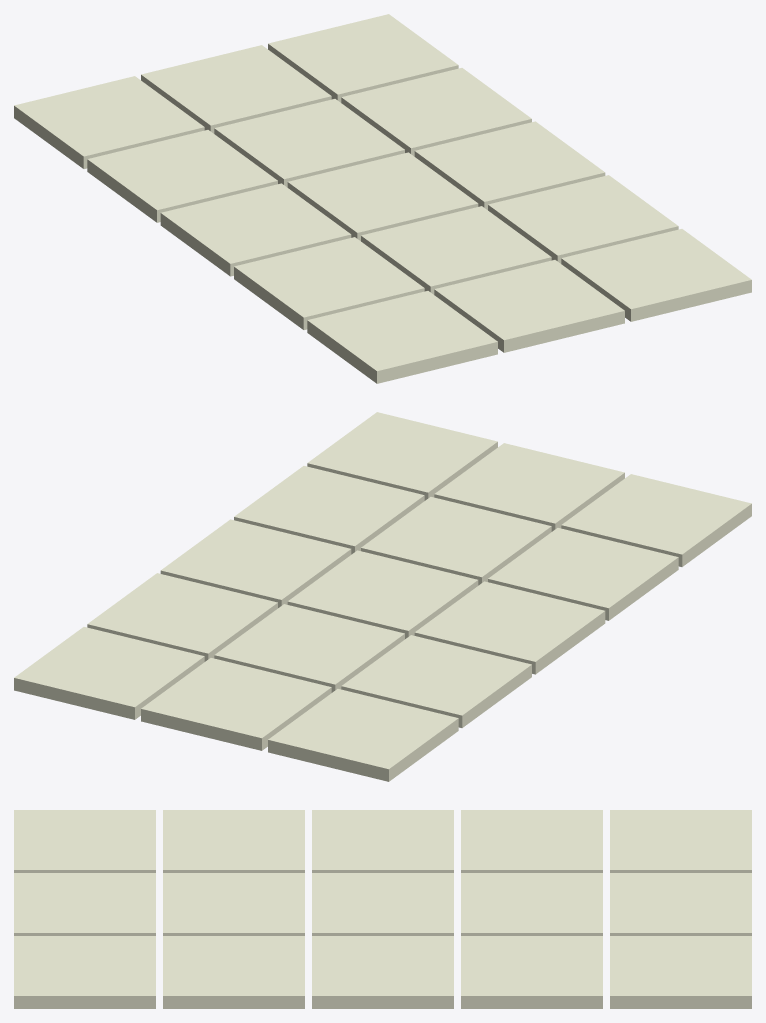
The model's file is KitchenFloor.fbx.
The picture shows the model from 3 angles, top to bottom: view 1: azimuth 30°, elevation 25°; view 2: azimuth 150°, elevation 25°; view 3: azimuth 270°, elevation 25°; orthographic projection.
Parts seen in each view (by area): view 1: Cube.8186; view 2: Cube.8186; view 3: Cube.8186.
Boxes of the visible parts, x1=… form: Cube.8186: x1=14, y1=14, x2=751, y2=383; Cube.8186: x1=14, y1=412, x2=751, y2=781; Cube.8186: x1=14, y1=810, x2=751, y2=1008.
Size of the model in its own units: 367 by 11.83 by 615.
Materials: 1 (1 with a texture image).
